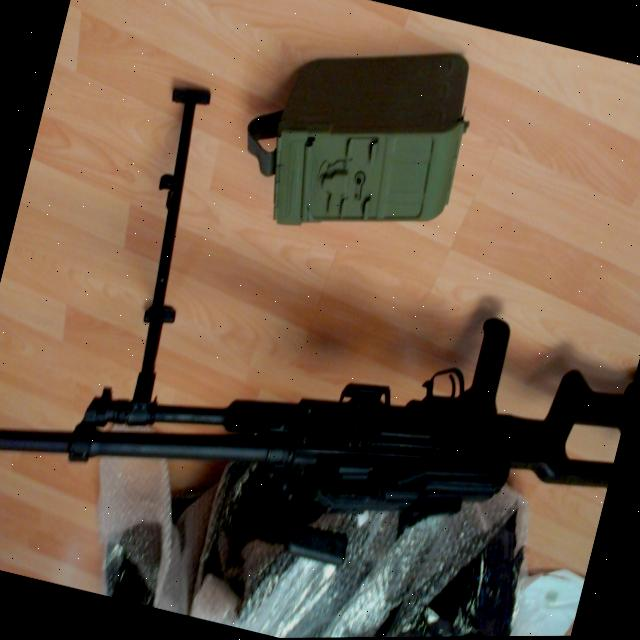firearm: (0, 47, 640, 640)
